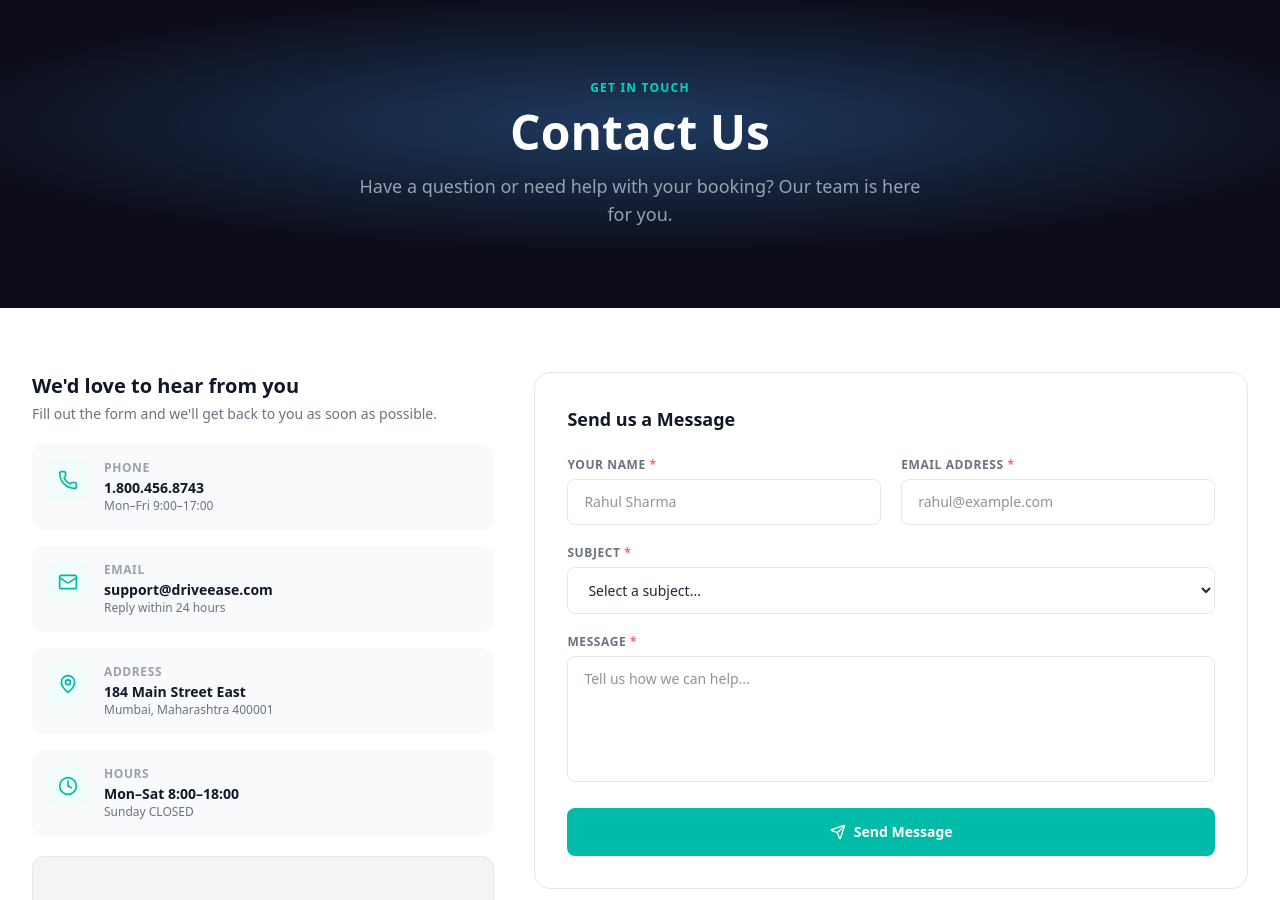
Test case: Contact page › success screen shows the submitted email address
Type "Alice" into the field with placeholder "Rahul Sharma" at point(724, 502), box [567,479,881,525]
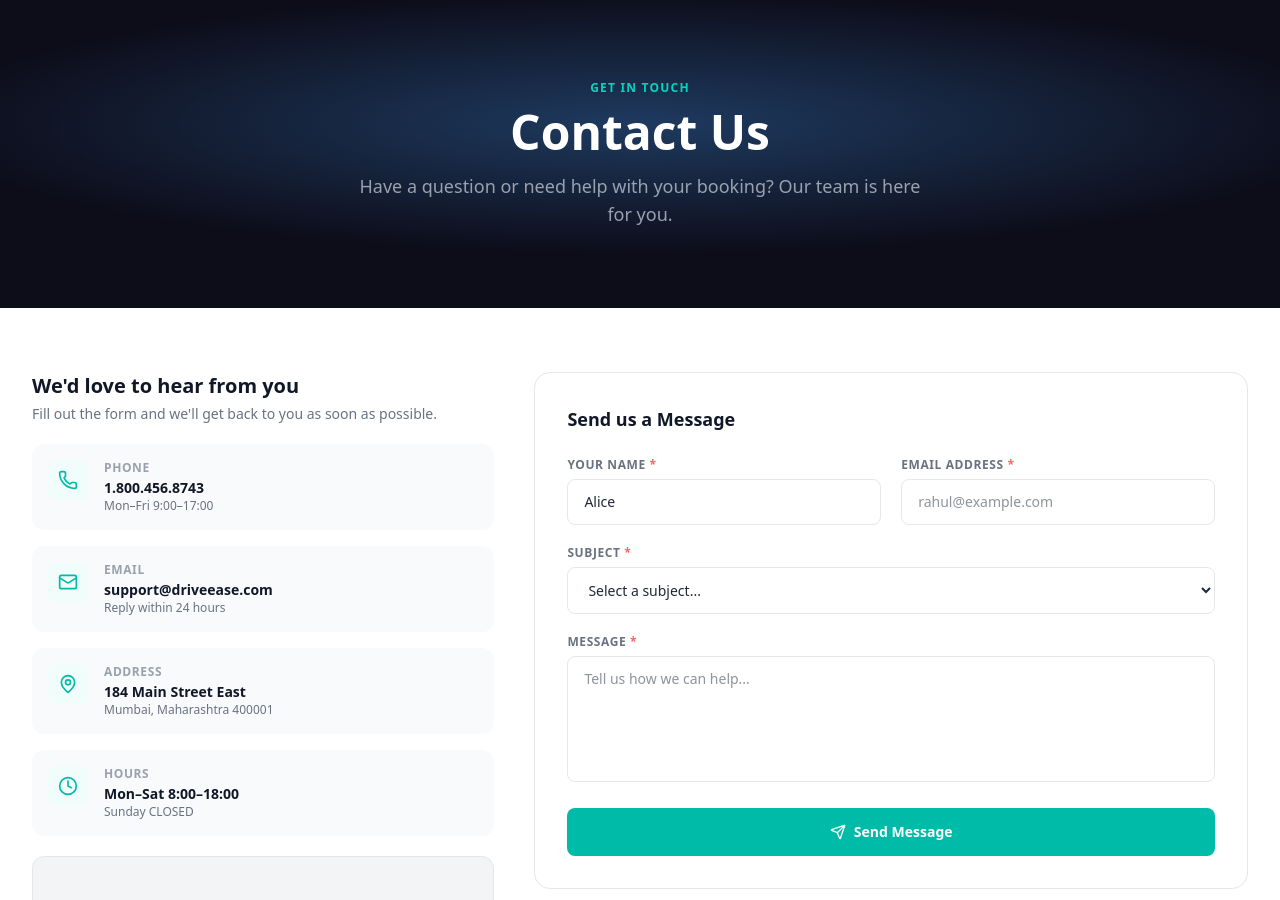
Type "alice@driveease.com" into the field with placeholder "rahul@example.com" at point(1058, 502), box [901,479,1215,525]
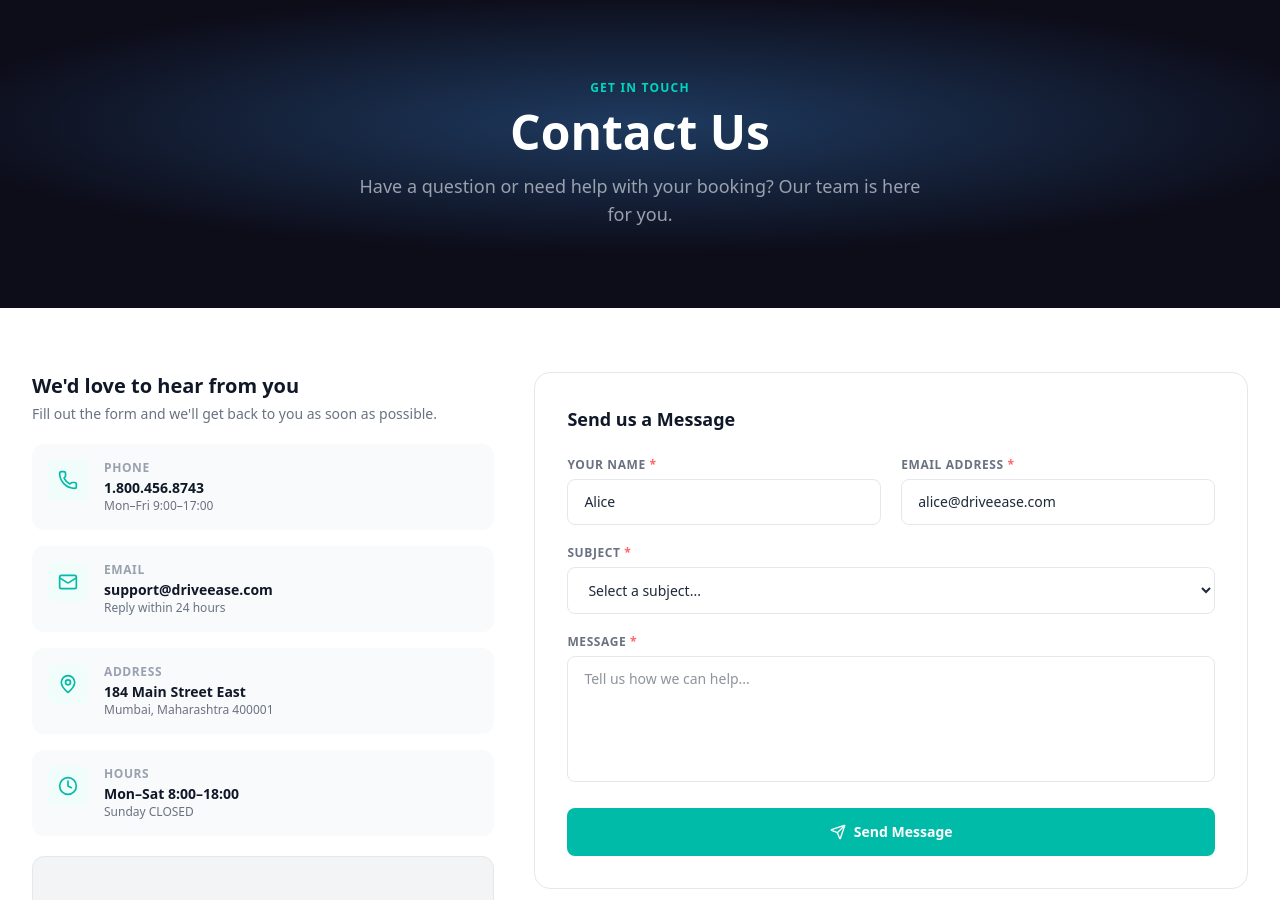
Select "Booking Inquiry" in the dropdown at point(891, 590), box [567,567,1215,614]
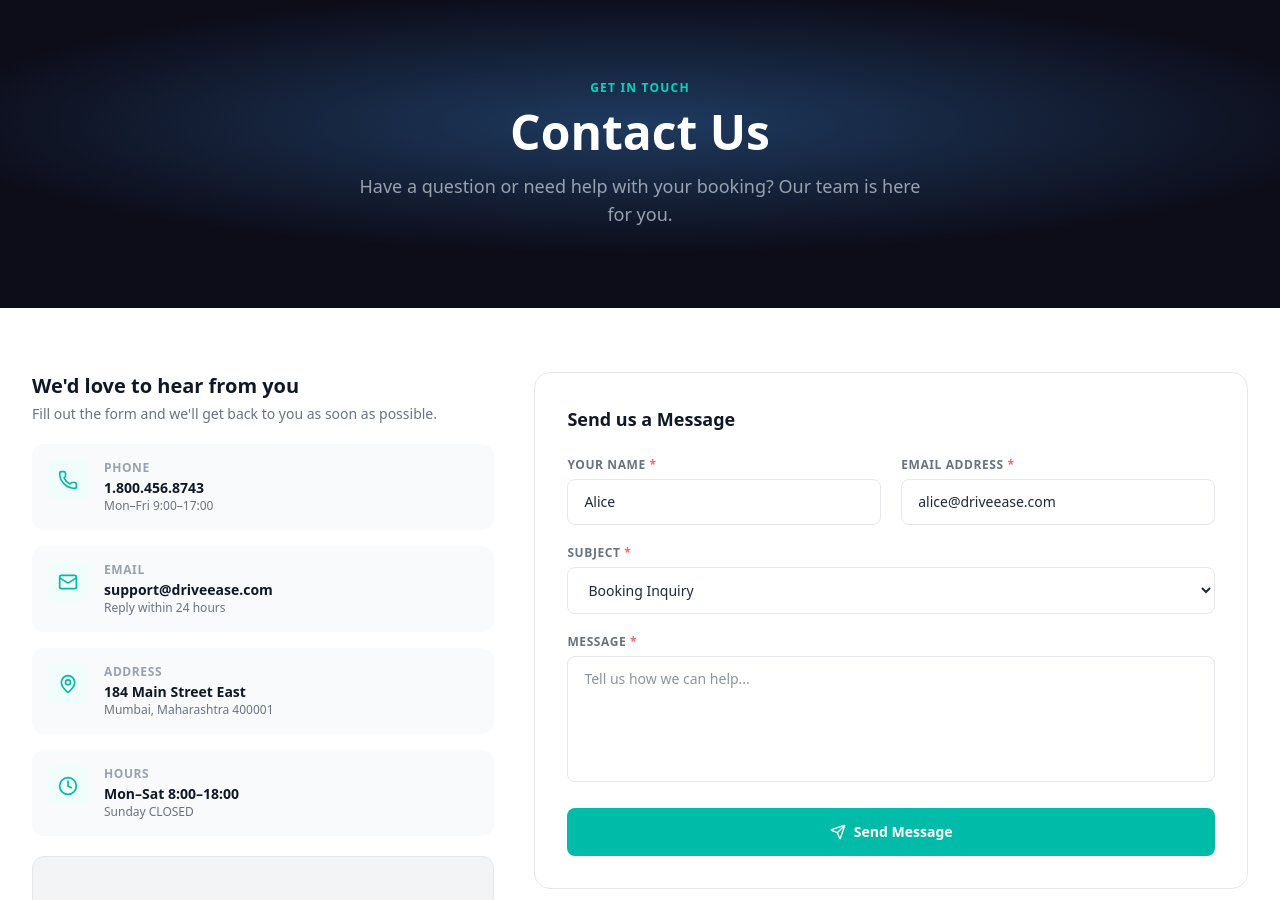
Type "Hello there!" into the text box with placeholder "Tell us how we can help..." at point(891, 719), box [567,656,1215,782]
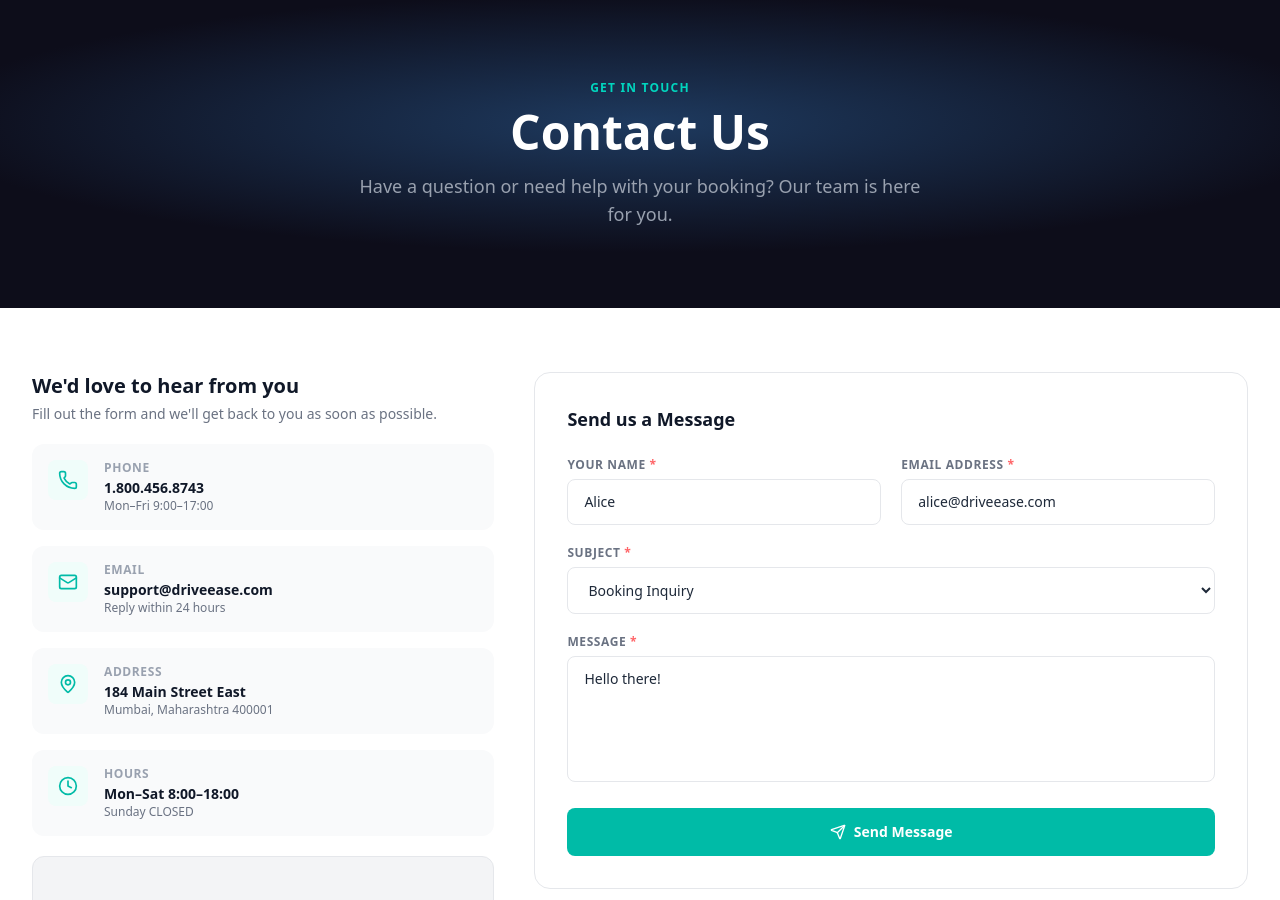
Click the button "Send Message" at point(891, 832), box [567,808,1215,856]
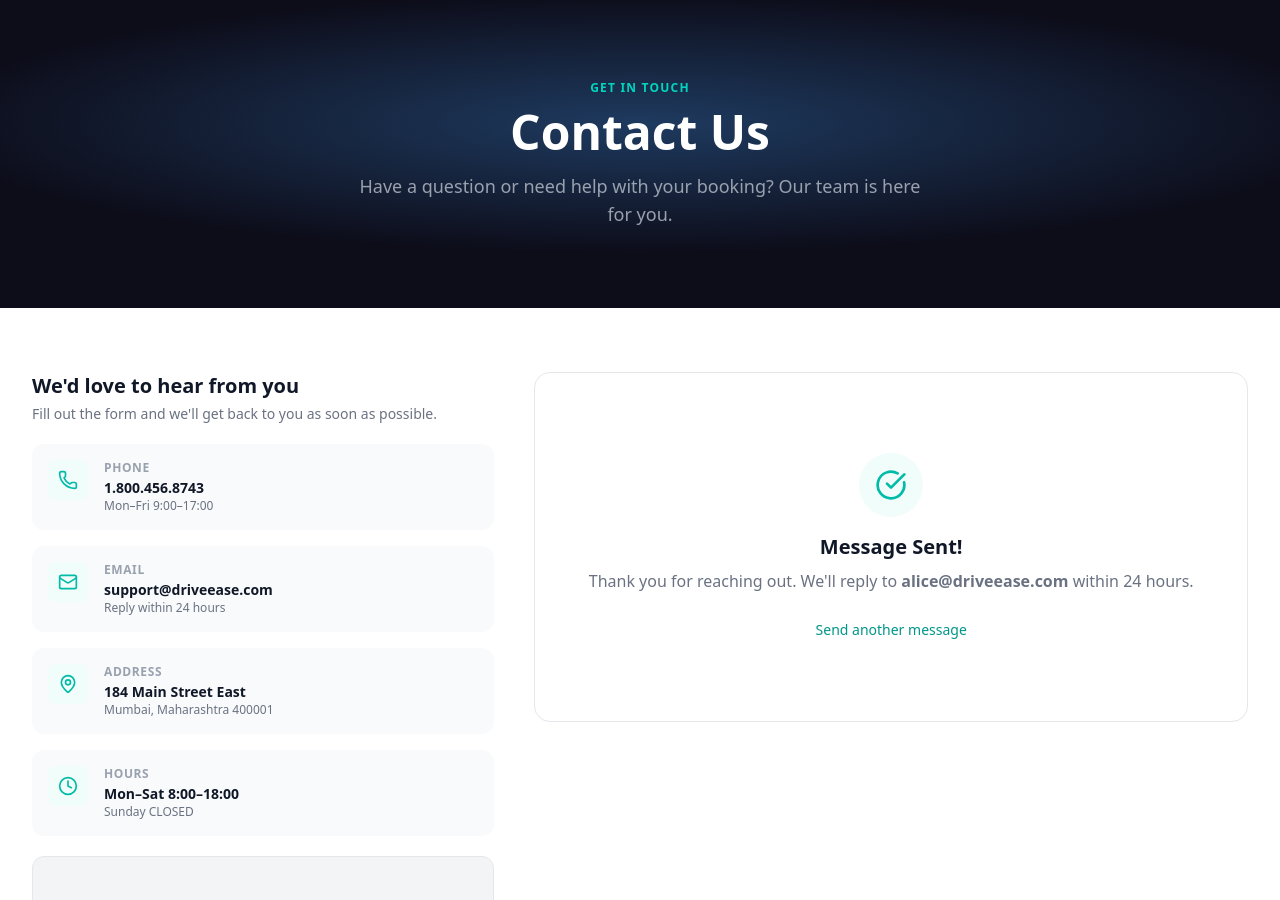
Expected: the heading "Message Sent!" is shown, [820,533,962,560]
Expected: the text "alice@driveease.com" is shown, [901,570,1068,592]
